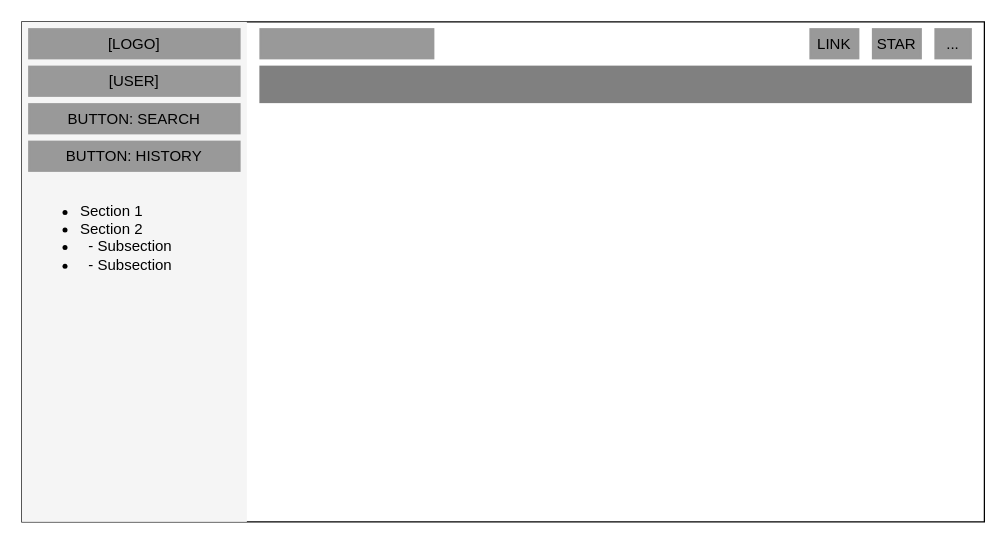
This 1006x544 diagram has some shape labels left out. Each missing label, with the centre of its shape:
"[PATH]" belongs at pixel 346 43.
"TITLE" belongs at pixel 615 83.
